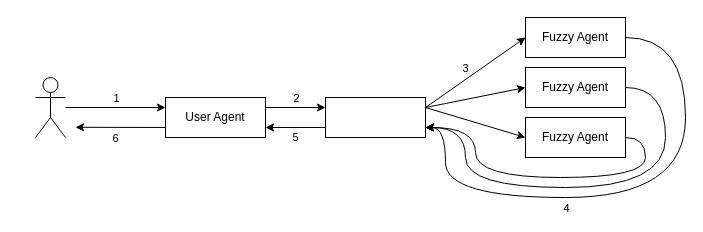
This 703x232 diagram has some shape labels left out. Each missing label, with the box of its shape:
Human User: (34, 76, 66, 138)
Manager Agent: (324, 96, 426, 138)
